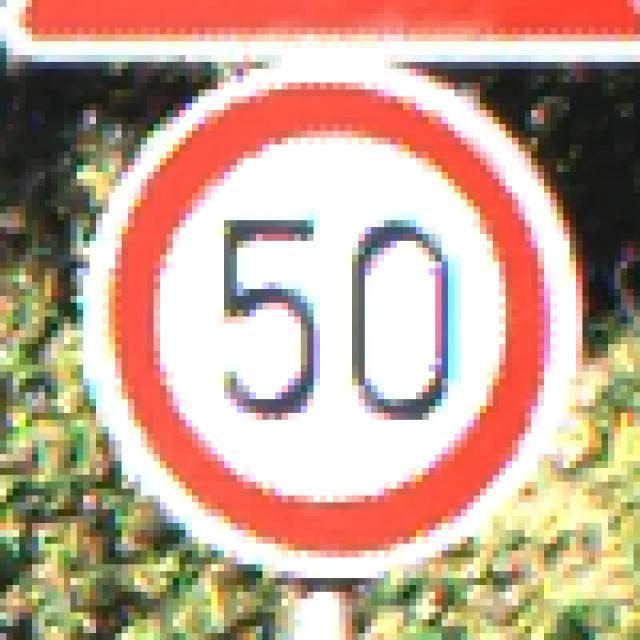speed limit 50: (92, 64, 559, 559)
